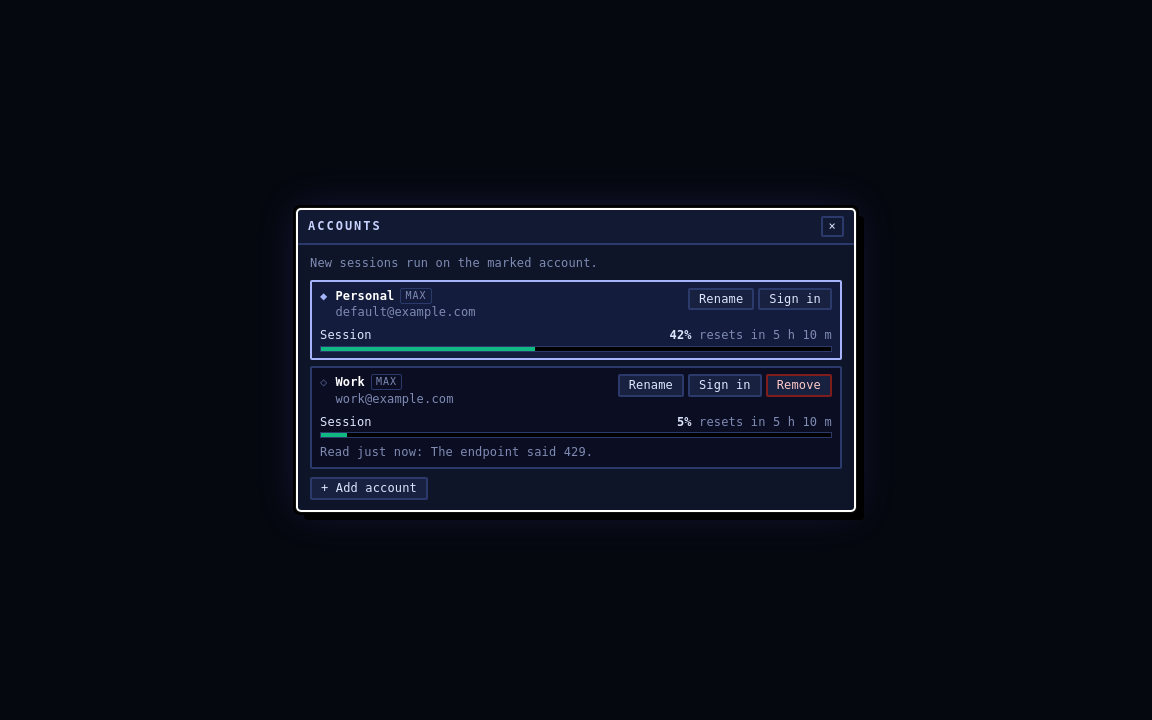
Test: a sign-in terminal that cannot open says why, and the window stays
Click the 1st button "Sign in": (795, 299) [758,288,832,310]
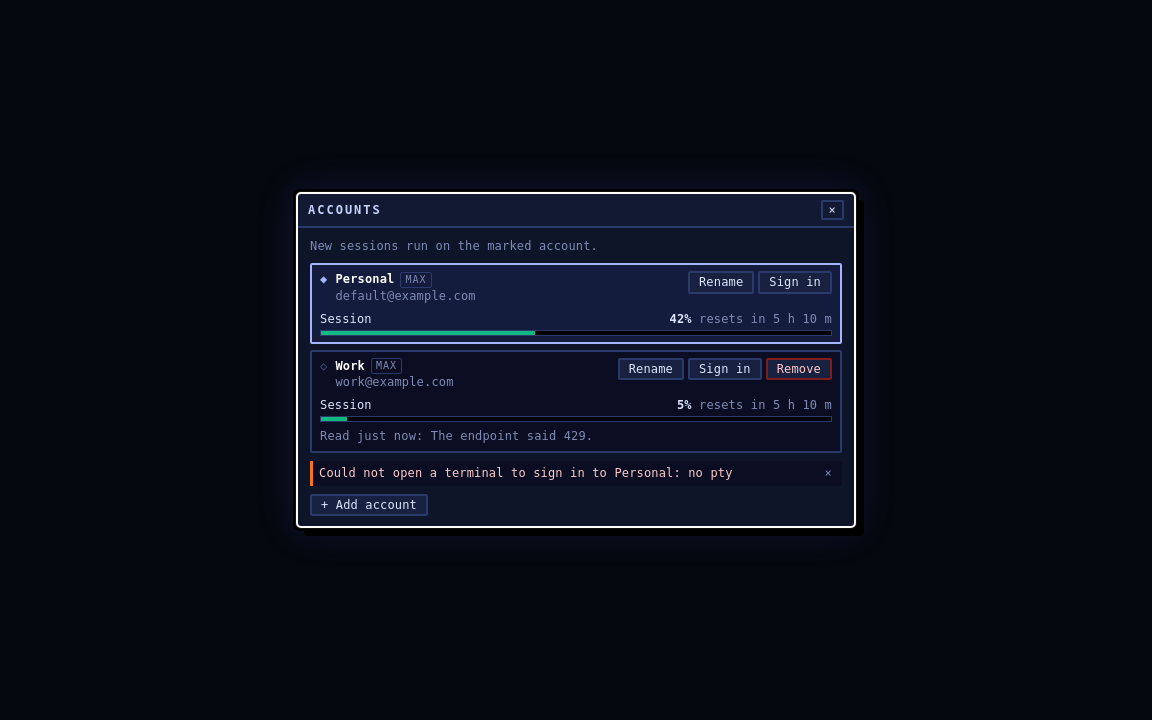
Expected: the message "Could not open a terminal to sign in to Personal: no pty ×" is shown, [310,461,842,486]
